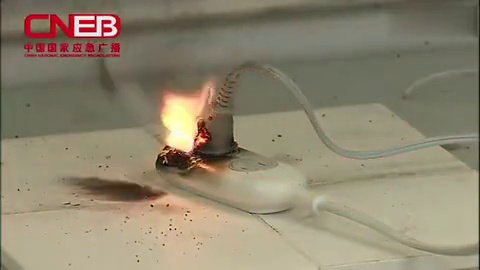fire: (153, 73, 216, 157)
